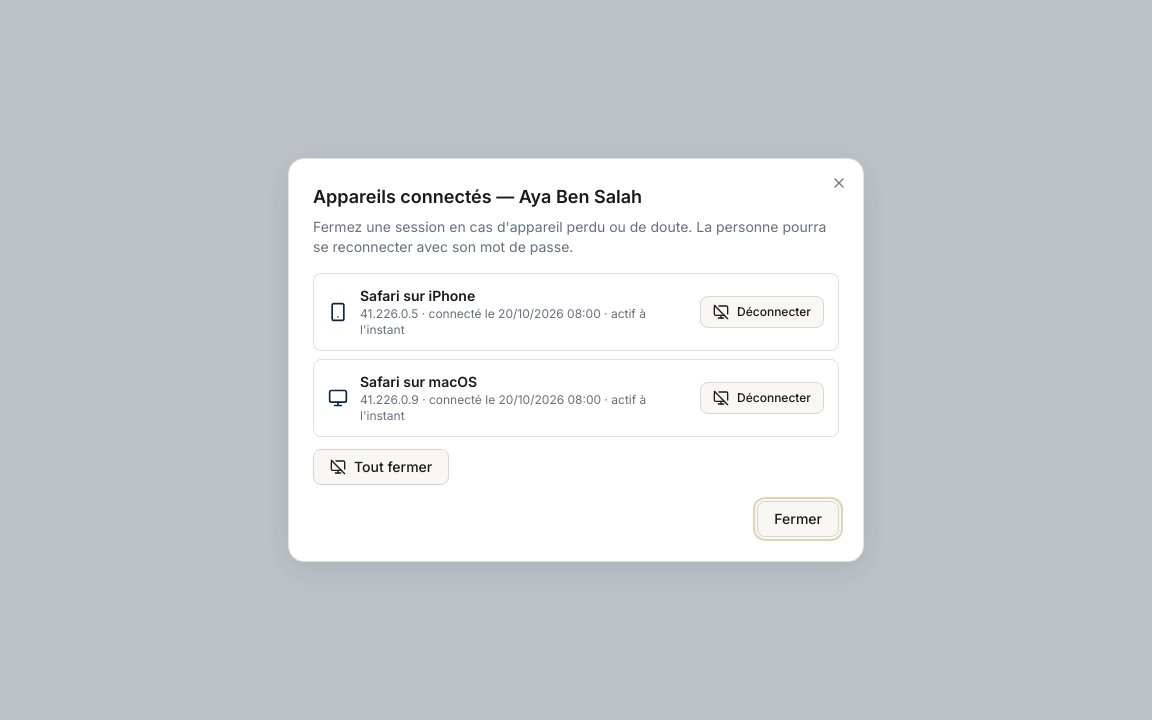
Test case: appareils connectés d'un employé (administrateur) › « Tout fermer » déconnecte toutes ses sessions et le dit
Step 1. Click the button "Tout fermer" → (381, 467), box x1=313 y1=449 x2=449 y2=485
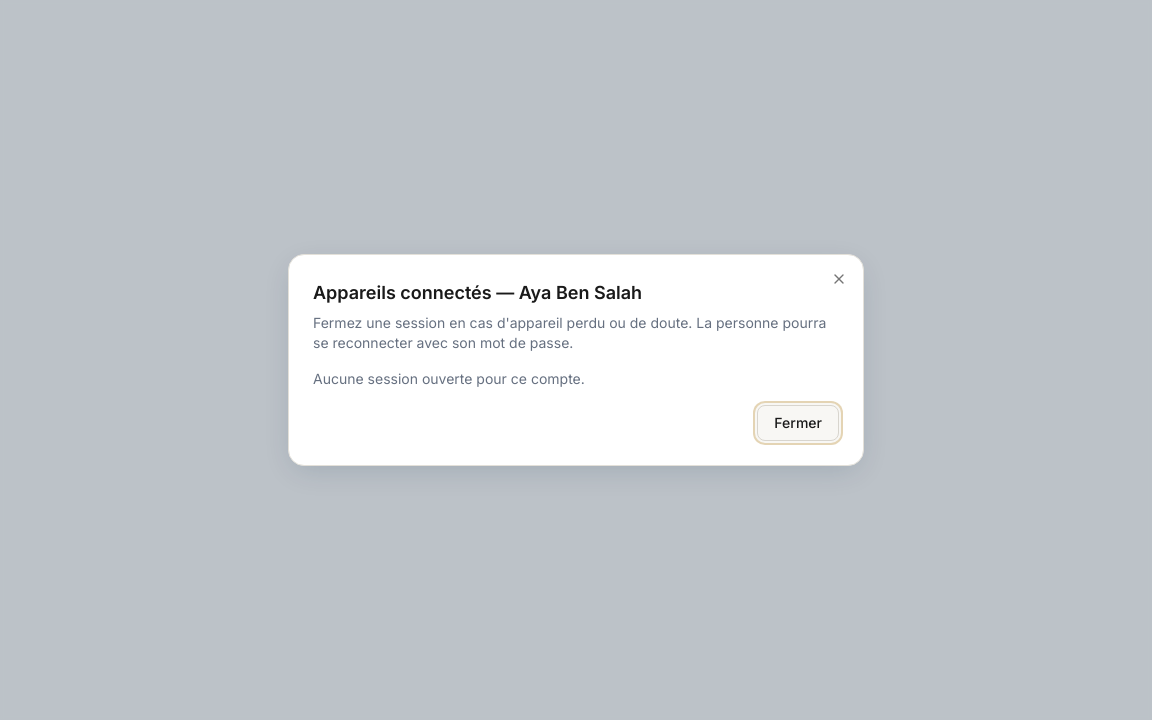
Result: the text "Aucune session ouverte pour ce compte." is shown at x1=313 y1=370 x2=585 y2=387
